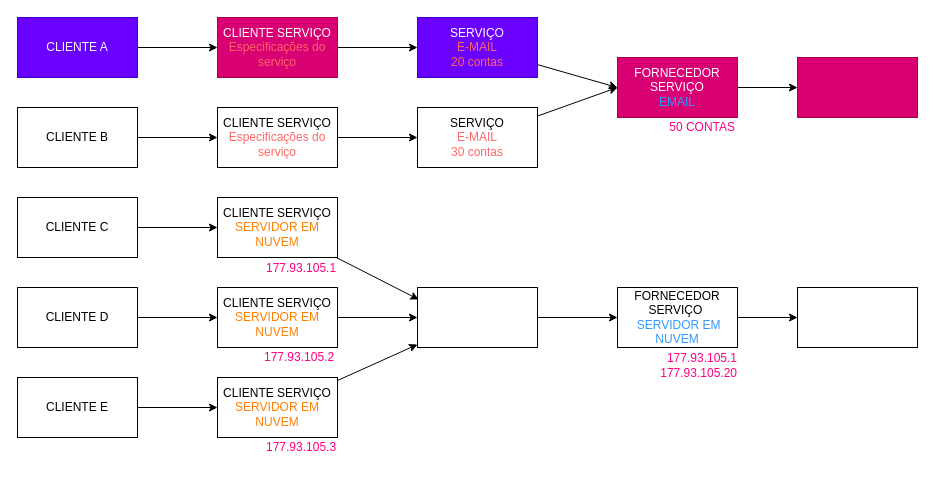
Some shapes in this 935 by 481 pixel diagram are drawn without their labels. The shapes that lost their labels are listed below. From the top down, each one's box as (x1, y1, x2, y2) in pixels, then its label:
(796, 56, 918, 118): FORNECEDOR SKYMAIL ON DEMAND
(416, 286, 538, 348): SERVIÇO SERVIDOR EM NUVEM
(796, 286, 918, 348): FORNECEDOR DATA CENTER
